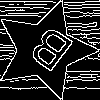B: (19, 25, 76, 81)
